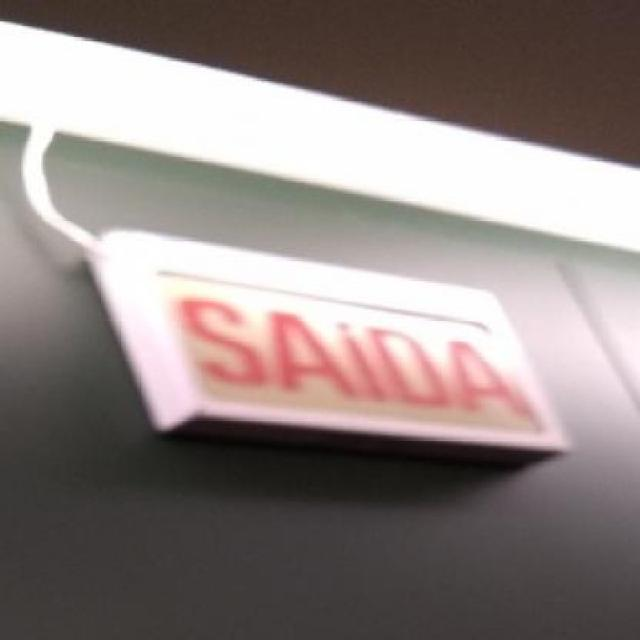emergency_exit: (86, 227, 572, 460)
